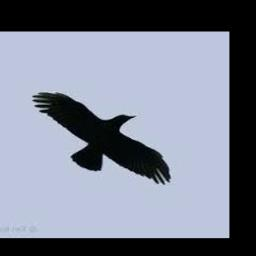Crow: (32, 92, 172, 185)
